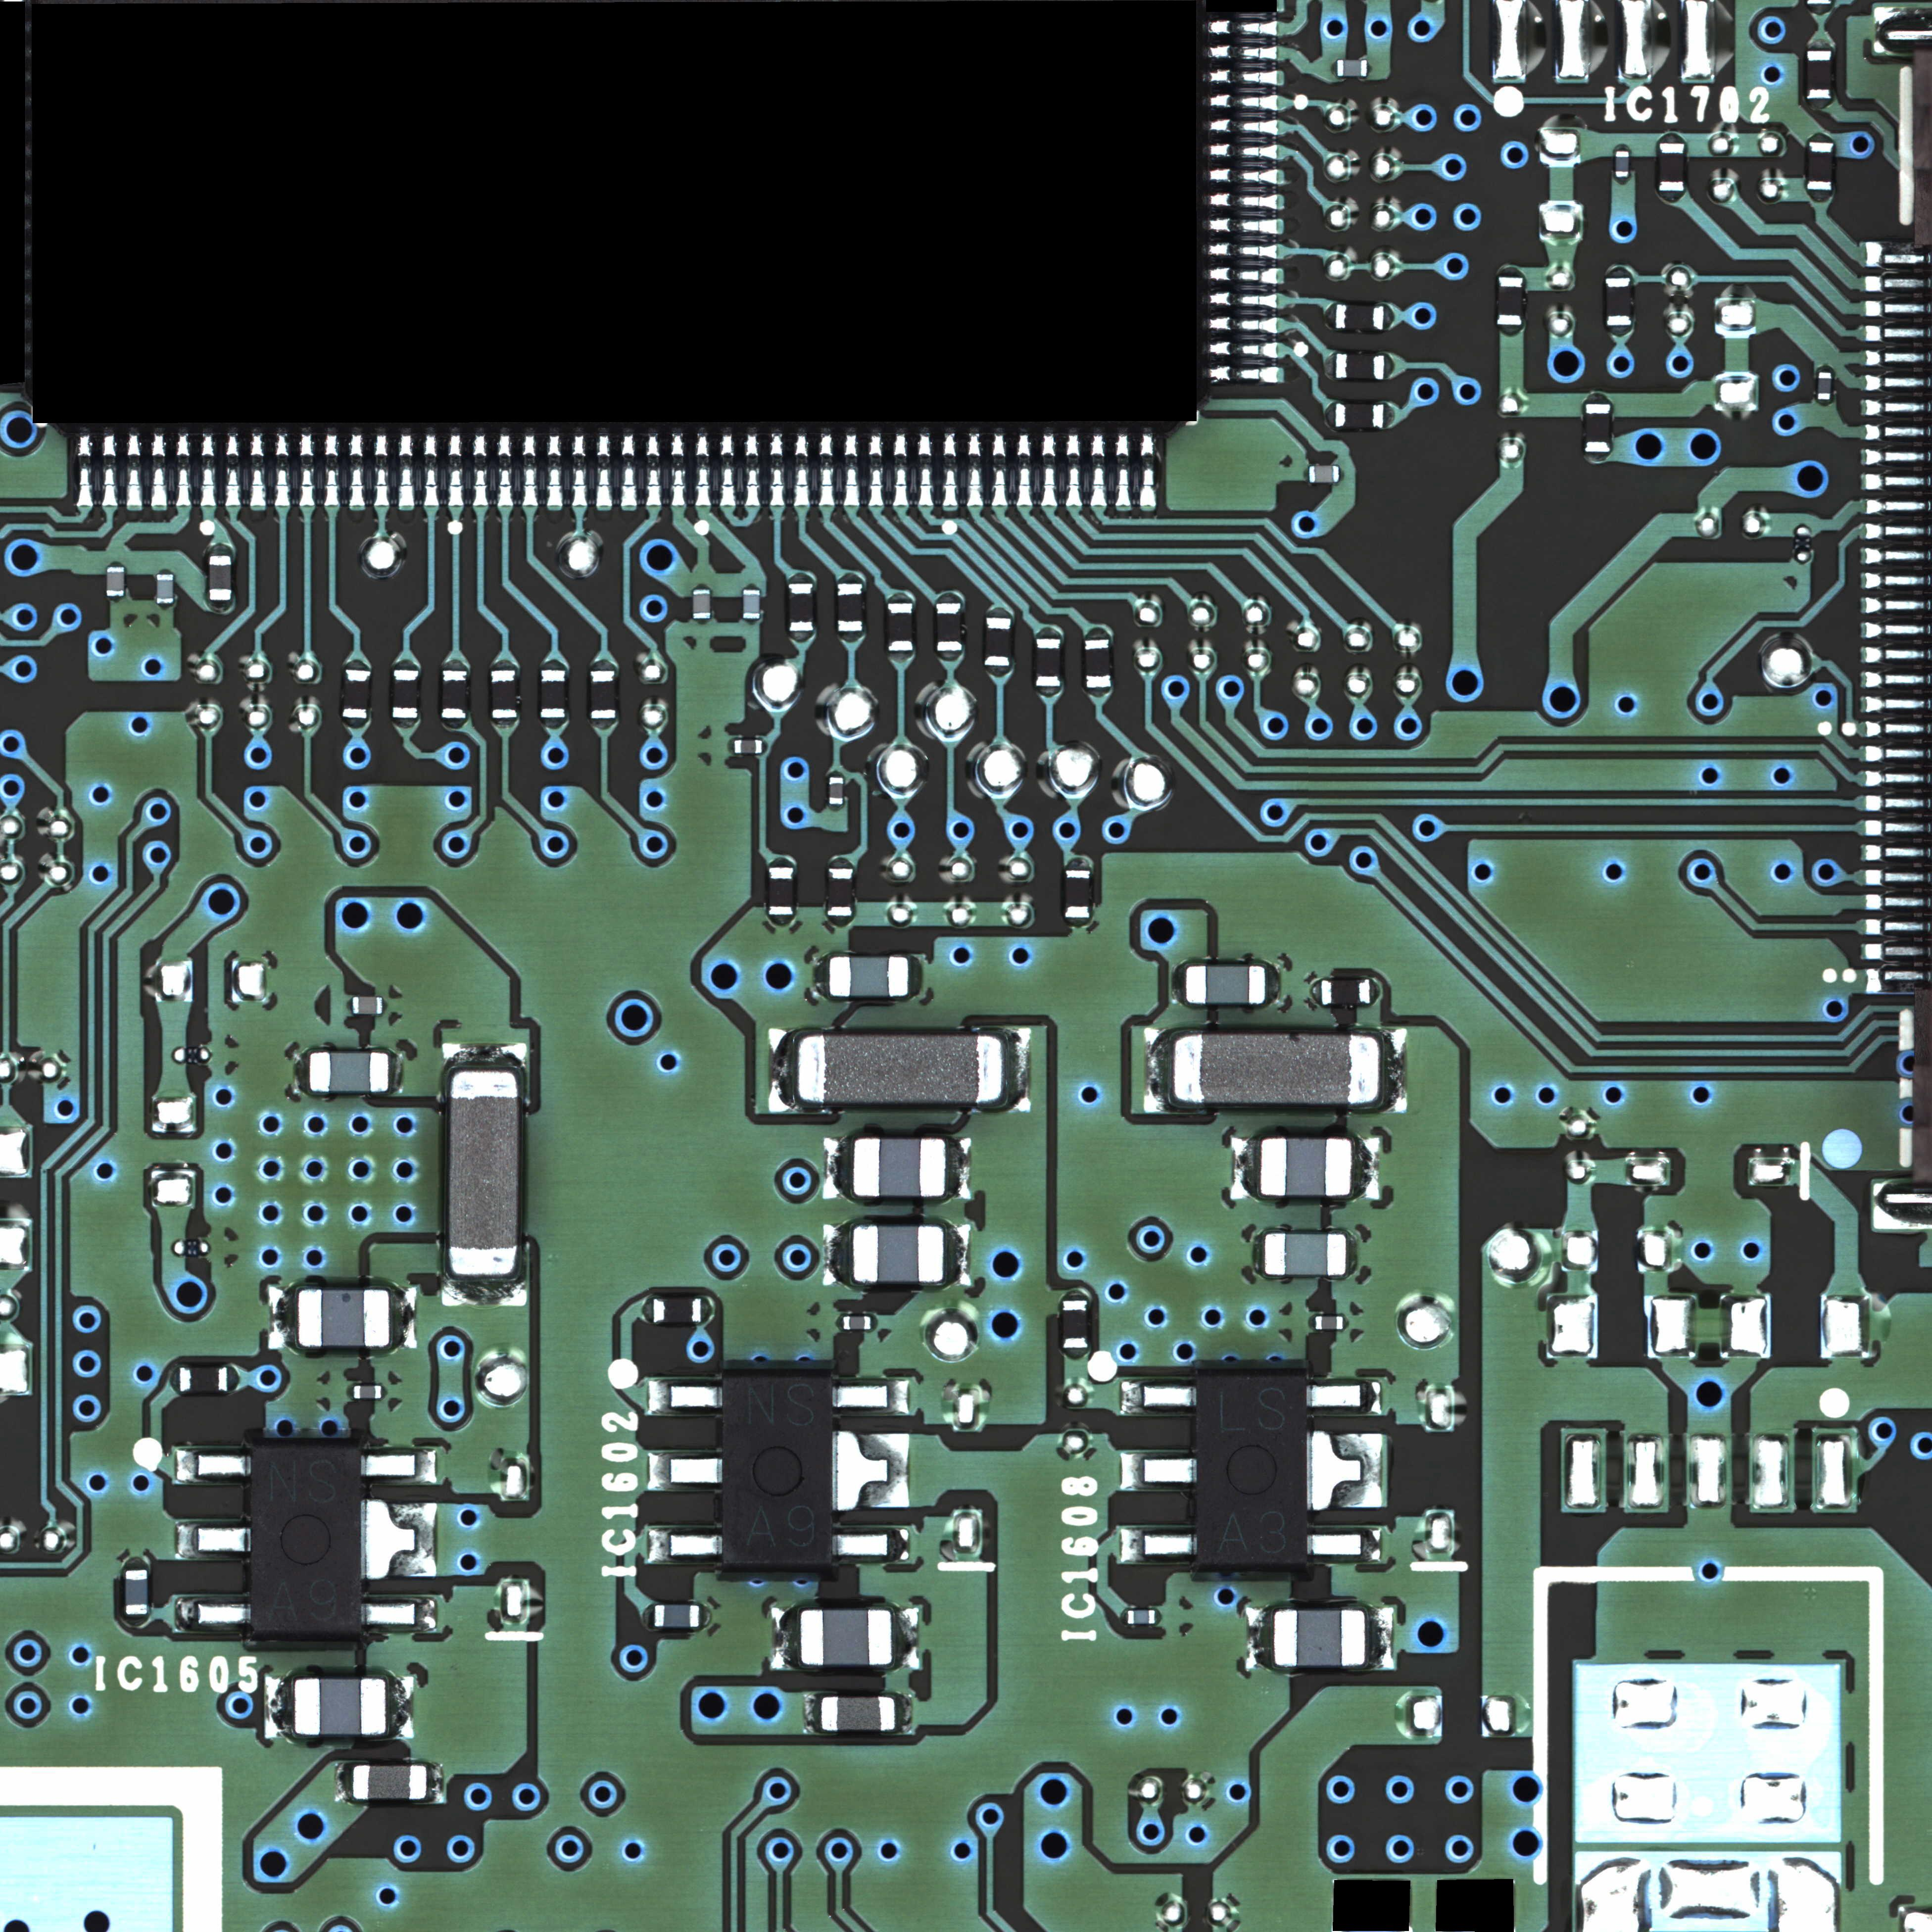Package: (1196, 1376, 1307, 1562), (724, 1376, 832, 1564), (253, 1445, 361, 1631), (449, 1070, 517, 1276), (798, 1035, 1001, 1102), (1175, 1035, 1378, 1102), (855, 1138, 945, 1196), (1261, 1138, 1352, 1196), (294, 1677, 386, 1734), (299, 1290, 389, 1346), (853, 1226, 943, 1283), (800, 1610, 892, 1665), (1274, 1610, 1366, 1665), (1265, 1233, 1346, 1276), (310, 1051, 389, 1092), (830, 955, 908, 996), (1185, 966, 1265, 1003), (352, 1766, 426, 1799), (821, 1697, 895, 1730), (343, 671, 370, 718), (768, 867, 794, 915), (1322, 978, 1369, 1005), (1806, 143, 1833, 191), (1585, 403, 1610, 453), (393, 671, 418, 718), (442, 671, 467, 718), (492, 671, 517, 718), (540, 671, 564, 718), (591, 671, 616, 718), (653, 1299, 701, 1323), (828, 869, 853, 916), (789, 584, 814, 632), (837, 584, 862, 632), (888, 603, 913, 651), (936, 603, 961, 651), (985, 617, 1010, 665), (1037, 639, 1062, 686), (1086, 640, 1111, 688), (1065, 870, 1090, 918), (1063, 1300, 1088, 1348), (1336, 304, 1384, 329), (1336, 354, 1384, 379), (1336, 403, 1384, 428), (1606, 278, 1631, 326), (1499, 278, 1523, 326), (1660, 143, 1684, 191), (1806, 51, 1831, 99), (180, 1368, 226, 1392), (209, 556, 232, 600), (124, 1569, 147, 1614), (655, 1605, 699, 1628), (106, 566, 124, 596), (352, 996, 382, 1014), (743, 589, 761, 619), (157, 573, 173, 603), (694, 589, 709, 619), (1309, 467, 1339, 483), (1338, 60, 1368, 76), (828, 777, 842, 805), (734, 740, 763, 754), (1315, 1316, 1343, 1330), (1129, 1610, 1155, 1624), (1615, 150, 1629, 177), (1819, 372, 1831, 400), (354, 1385, 380, 1398), (844, 1316, 870, 1329)
Solder: (361, 1499, 437, 1580), (833, 1431, 909, 1511), (1307, 1431, 1382, 1507), (1120, 1453, 1196, 1490), (175, 1522, 251, 1559), (648, 1453, 722, 1490), (442, 1276, 527, 1307), (1120, 1380, 1196, 1415), (1120, 1529, 1196, 1564), (361, 1449, 437, 1484), (175, 1598, 251, 1633), (1307, 1527, 1382, 1562), (1307, 1378, 1382, 1414), (832, 1529, 909, 1562), (361, 1598, 437, 1631), (175, 1449, 251, 1483), (1378, 1028, 1408, 1113), (1143, 1028, 1173, 1113), (768, 1028, 798, 1113), (1001, 1028, 1031, 1111), (833, 1380, 908, 1414), (648, 1380, 722, 1414), (648, 1529, 722, 1562), (442, 1042, 527, 1070), (1230, 1136, 1260, 1200), (264, 1675, 294, 1739), (1366, 1608, 1396, 1670), (823, 1138, 853, 1200), (823, 1224, 853, 1286), (1246, 1606, 1274, 1670), (892, 1606, 920, 1670), (771, 1606, 800, 1670), (269, 1286, 297, 1350), (1352, 1138, 1380, 1200), (945, 1224, 973, 1286), (386, 1677, 414, 1739), (389, 1288, 418, 1348), (945, 1138, 971, 1200), (1090, 433, 1108, 506), (991, 433, 1008, 506), (941, 433, 959, 506), (869, 433, 886, 506), (842, 433, 860, 506), (547, 433, 564, 506), (718, 433, 736, 506), (471, 435, 488, 508), (1207, 18, 1277, 35), (1207, 143, 1277, 161), (1208, 193, 1279, 211), (372, 435, 389, 506), (248, 435, 265, 506), (173, 435, 191, 506), (1208, 67, 1277, 85), (1210, 267, 1279, 285), (1139, 433, 1155, 506), (1115, 433, 1131, 506), (1067, 433, 1083, 506), (1040, 433, 1056, 506), (1016, 433, 1031, 506), (968, 433, 984, 506), (918, 433, 934, 506), (893, 433, 909, 506), (819, 433, 835, 506), (794, 433, 810, 506), (771, 433, 787, 506), (695, 433, 711, 506), (671, 433, 686, 506), (646, 433, 662, 506), (619, 433, 635, 506), (596, 433, 612, 506), (571, 433, 587, 506), (745, 433, 761, 506), (398, 433, 414, 506), (349, 433, 364, 506), (324, 435, 340, 508), (448, 433, 464, 506), (522, 433, 538, 506), (223, 435, 239, 508), (198, 433, 214, 506), (150, 433, 166, 506), (126, 433, 142, 506), (101, 433, 117, 506), (76, 435, 92, 508), (272, 433, 288, 506), (299, 433, 315, 506), (1207, 44, 1277, 60), (1207, 119, 1277, 134), (1208, 168, 1279, 184), (1208, 218, 1279, 234), (1208, 244, 1279, 260), (423, 435, 439, 506), (497, 435, 513, 506), (1208, 94, 1277, 110), (1210, 294, 1279, 310), (1210, 318, 1279, 334), (1210, 341, 1279, 357), (1210, 366, 1279, 382), (895, 1693, 913, 1734), (803, 1693, 821, 1734), (812, 955, 830, 996), (334, 1762, 352, 1803), (428, 1762, 444, 1803), (294, 1053, 310, 1093), (1267, 962, 1281, 1005), (1171, 962, 1185, 1005), (909, 955, 924, 998), (389, 1051, 403, 1093), (1346, 1233, 1359, 1276), (1253, 1231, 1265, 1274), (768, 915, 796, 927), (1806, 4, 1835, 16), (490, 658, 517, 671), (540, 718, 566, 731), (1805, 37, 1831, 50), (1323, 352, 1336, 379), (1323, 303, 1336, 329), (228, 1366, 241, 1392), (343, 718, 368, 731), (442, 658, 467, 671), (442, 718, 467, 731), (591, 718, 616, 731), (839, 632, 863, 644), (888, 651, 913, 663), (985, 665, 1010, 678), (1035, 626, 1060, 639), (1037, 686, 1062, 699), (1085, 626, 1109, 639), (1808, 191, 1833, 203), (1660, 191, 1684, 203), (1606, 326, 1631, 338), (1499, 326, 1523, 338), (1384, 403, 1396, 428), (1323, 402, 1336, 426), (828, 856, 853, 869), (828, 916, 853, 929), (124, 1557, 149, 1569), (124, 1615, 149, 1628), (1063, 1348, 1088, 1361), (209, 602, 232, 614), (1065, 856, 1088, 869), (699, 1605, 711, 1628), (642, 1605, 655, 1628), (640, 1299, 653, 1322), (343, 658, 370, 669), (589, 660, 616, 671), (787, 571, 814, 582), (837, 571, 863, 582), (1806, 99, 1833, 110), (1658, 133, 1684, 143), (1605, 267, 1631, 278), (1497, 265, 1523, 276), (1311, 978, 1322, 1005), (1384, 354, 1394, 380), (209, 543, 230, 556), (393, 660, 418, 671), (492, 718, 517, 729), (789, 632, 814, 642), (936, 591, 961, 602), (938, 651, 962, 662), (985, 607, 1010, 617), (1086, 688, 1111, 699), (1585, 393, 1610, 403), (1384, 304, 1394, 329), (1065, 918, 1090, 929), (770, 856, 794, 867), (702, 1299, 713, 1323), (395, 718, 418, 729), (886, 593, 913, 602), (1585, 453, 1612, 462), (1371, 978, 1380, 1005), (541, 660, 566, 669), (1808, 133, 1833, 142), (170, 1366, 179, 1391), (1063, 1290, 1088, 1299), (725, 738, 734, 754), (692, 582, 709, 589), (694, 619, 711, 626), (743, 619, 761, 626), (1817, 363, 1831, 372), (345, 1385, 354, 1399), (345, 996, 352, 1014), (108, 596, 124, 603), (157, 603, 173, 610), (743, 582, 759, 589), (1120, 1608, 1127, 1624), (1343, 1315, 1350, 1330), (1329, 60, 1336, 76), (828, 805, 844, 812), (1615, 143, 1629, 150), (1615, 179, 1629, 186), (1817, 400, 1831, 407), (1155, 1610, 1162, 1624), (828, 770, 842, 777), (835, 1315, 842, 1329), (106, 561, 124, 566), (382, 996, 387, 1014), (1307, 1316, 1315, 1329), (763, 738, 768, 754), (1302, 465, 1307, 481), (1368, 60, 1373, 76), (872, 1315, 878, 1330), (382, 1385, 387, 1399), (1341, 465, 1345, 483), (157, 570, 173, 573)
